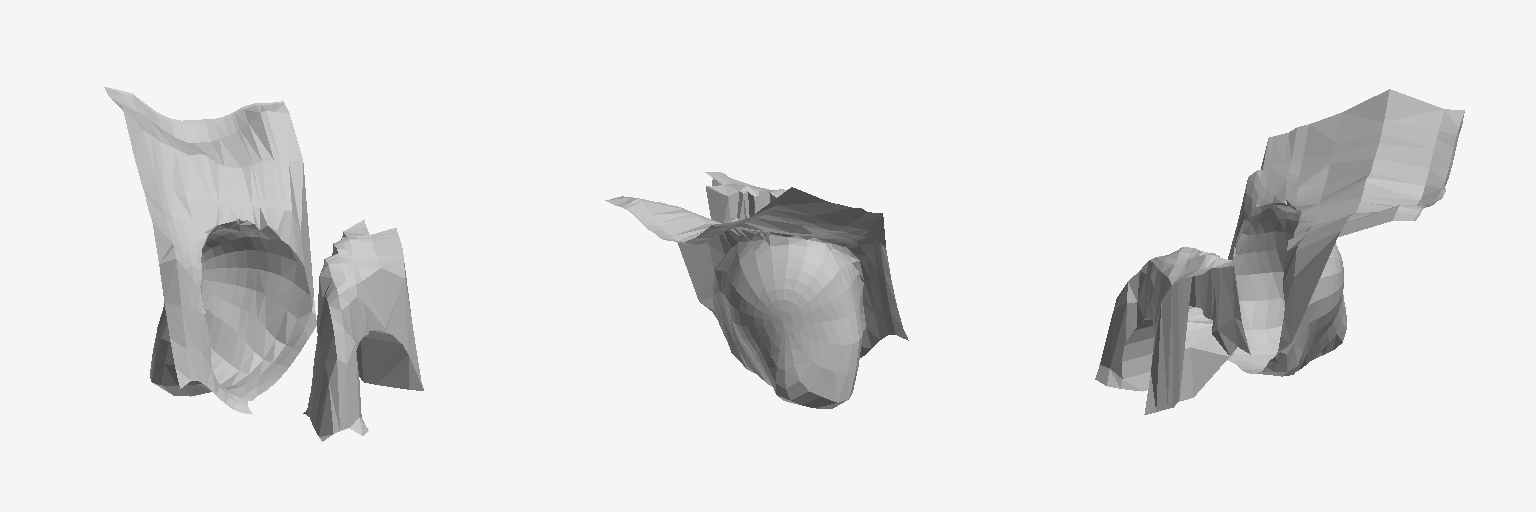
File: Caves.obj
3 views of the same model, side by side, from view 1: azimuth 30°, elevation 25°; view 2: azimuth 150°, elevation 25°; view 3: azimuth 270°, elevation 25° (orthographic).
Visible parts, largest first — view 1: Caves:polySurface3 Caves:polySurface4 Caves:polySurface5 Caves:p, Caves:polySurface2 Caves:polySurface3 Caves:polySurface1; view 2: Caves:polySurface3 Caves:polySurface4 Caves:polySurface5 Caves:p, Caves:polySurface2 Caves:polySurface3 Caves:polySurface1; view 3: Caves:polySurface3 Caves:polySurface4 Caves:polySurface5 Caves:p, Caves:polySurface2 Caves:polySurface3 Caves:polySurface1.
Part boxes in pixels (x1,y1,x2,y2): Caves:polySurface3 Caves:polySurface4 Caves:polySurface5 Caves:p: (104, 87, 316, 414); Caves:polySurface2 Caves:polySurface3 Caves:polySurface1: (303, 220, 423, 441); Caves:polySurface3 Caves:polySurface4 Caves:polySurface5 Caves:p: (605, 187, 908, 408); Caves:polySurface2 Caves:polySurface3 Caves:polySurface1: (705, 172, 786, 223); Caves:polySurface3 Caves:polySurface4 Caves:polySurface5 Caves:p: (1228, 89, 1464, 376); Caves:polySurface2 Caves:polySurface3 Caves:polySurface1: (1095, 247, 1250, 414).
Bounding box in the file's own units: 26.76 × 30.02 × 39.15.